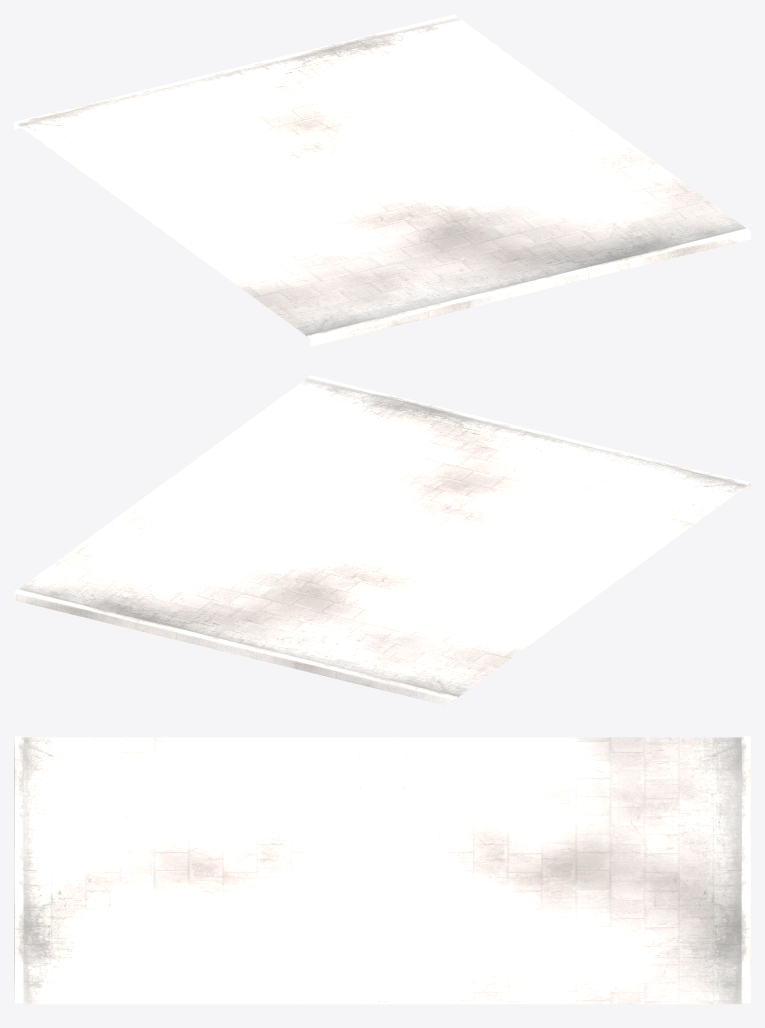
3 views of the same model, one above another, from view 1: azimuth 30°, elevation 25°; view 2: azimuth 150°, elevation 25°; view 3: azimuth 270°, elevation 25° (orthographic). The views are drawn at different scales.
Visible parts, largest first — view 1: S_P_2; view 2: S_P_2; view 3: S_P_2.
Boxes of the visible parts, x1,y1,x2,y2 form: S_P_2: (14, 14, 750, 346); S_P_2: (14, 375, 750, 707); S_P_2: (14, 736, 750, 1004).
Size of what is drawn, in the model's own units: 171 by 3.1 by 199.
1 material, 1 textured.
